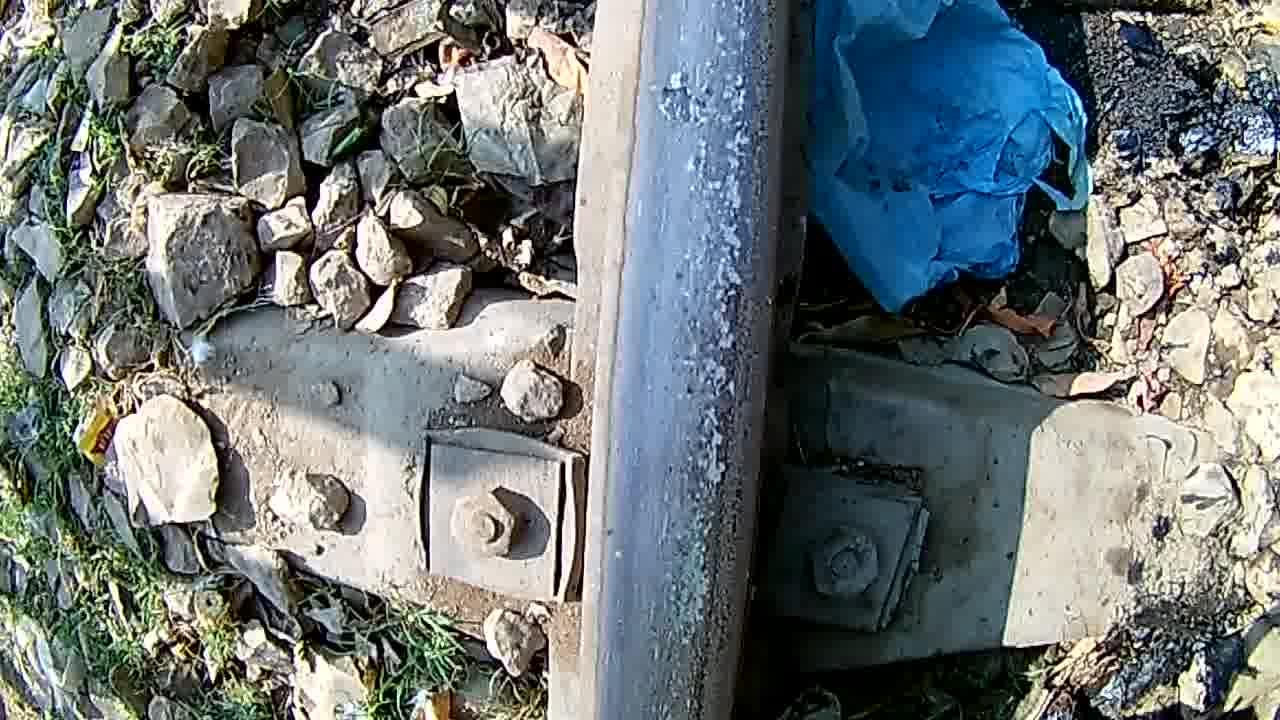crack: (628, 3, 786, 716)
